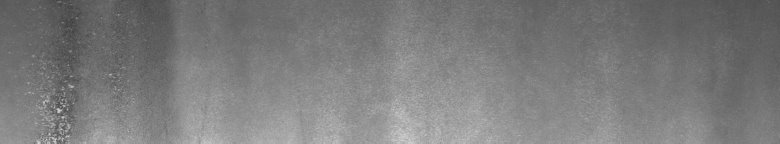hc: (41, 50, 115, 136)
